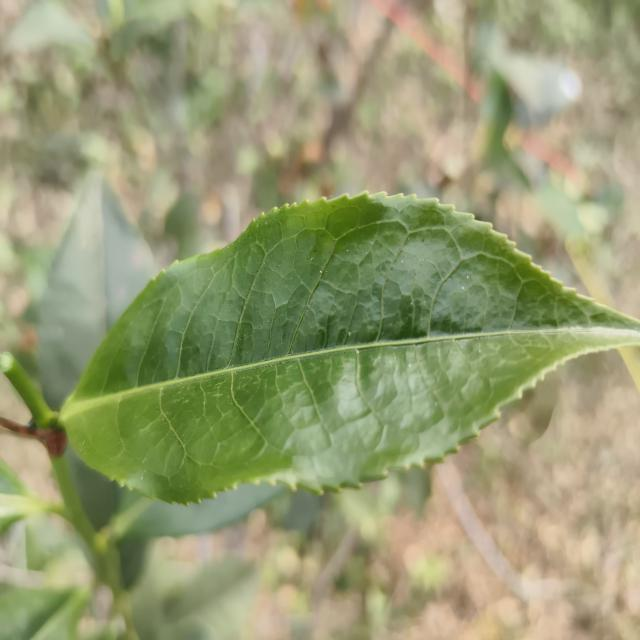Leaf: (59, 194, 640, 503), (38, 174, 156, 409), (0, 585, 89, 640), (67, 442, 122, 529)
